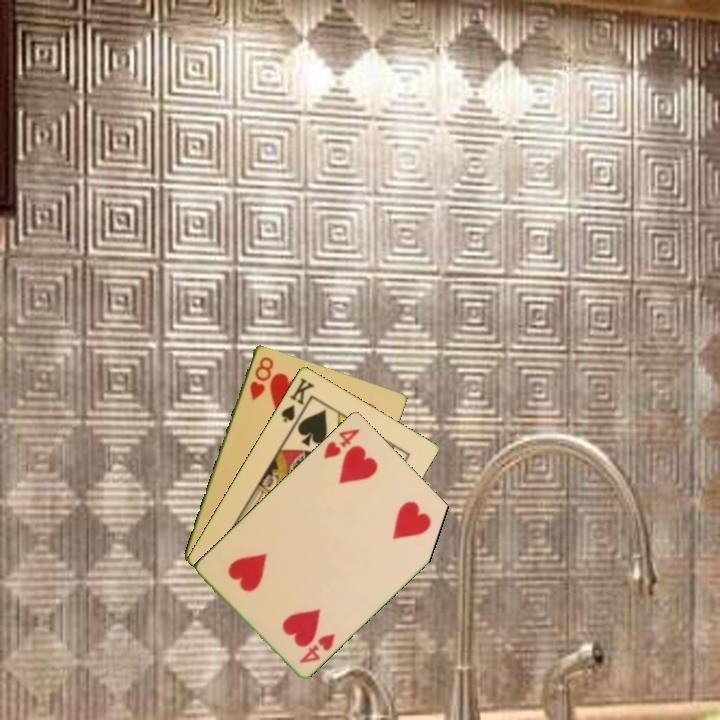4h: (320, 424, 362, 461), (296, 629, 338, 666)
8h: (246, 353, 276, 403)
Ks: (277, 374, 317, 430)
